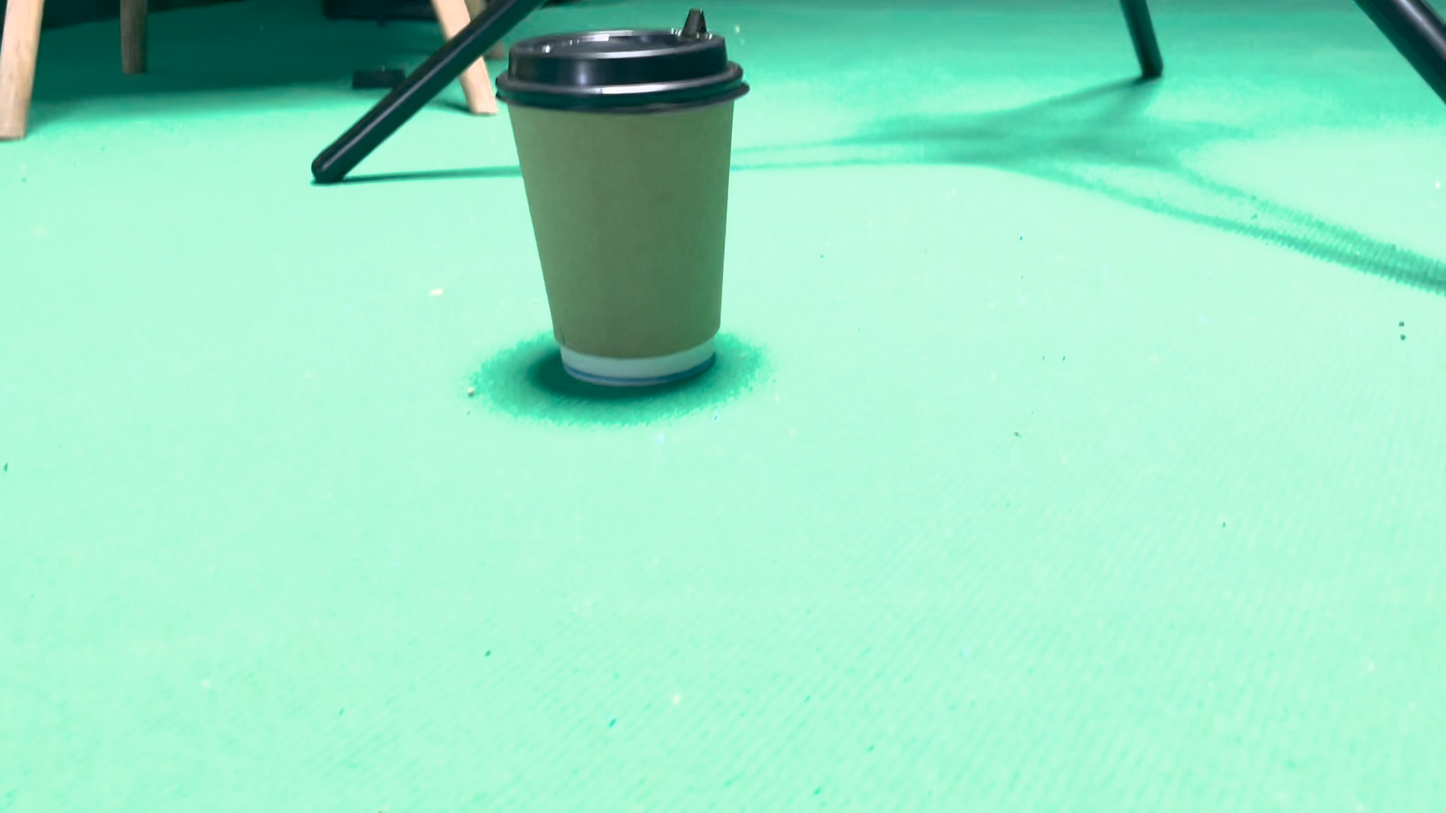cup: (719, 470, 825, 611)
